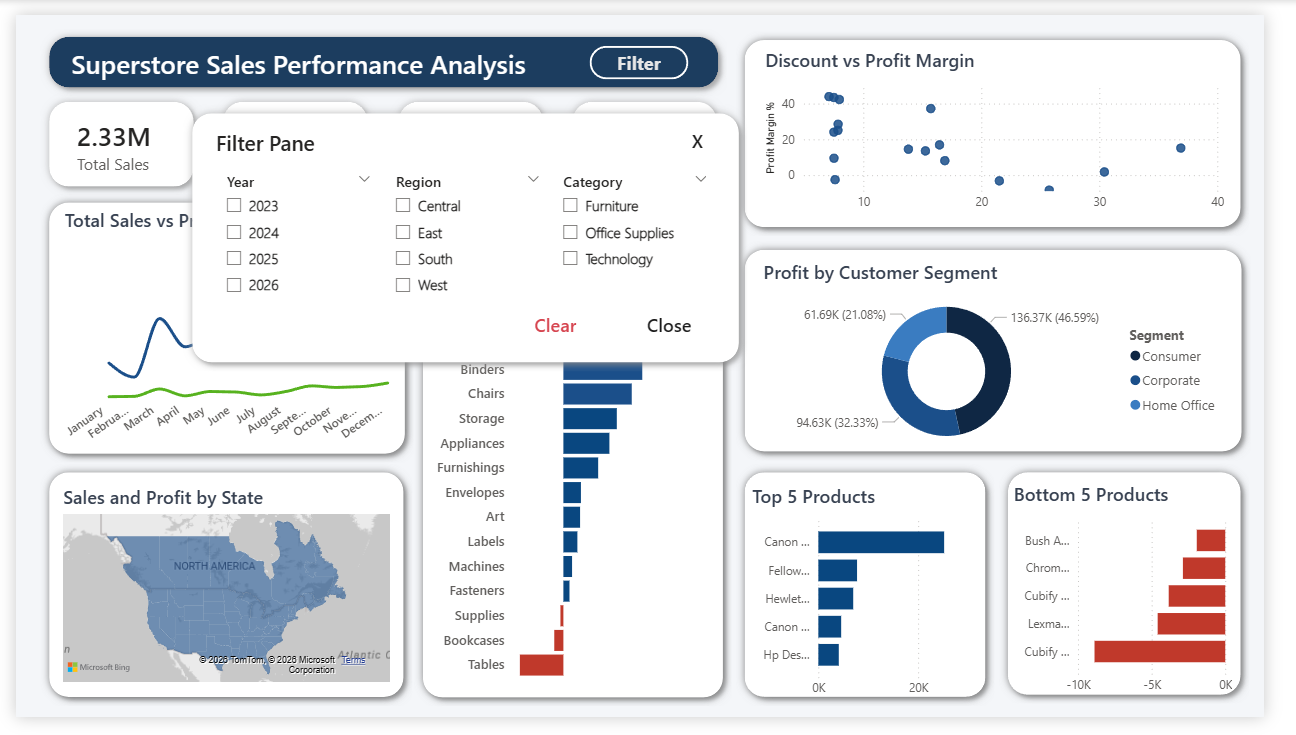

This screenshot's page, from the dashboard's own definition file:
{"tool":"powerbi","page":{"name":"Page 1","canvas":[1280,720],"ordinal":0},"visuals":[{"type":"shape","box":[24.3,12.9,704.3,70],"z":0,"group":"g10"},{"type":"shape","box":[738.3,17.5,526.7,210],"z":0,"group":"g6"},{"type":"shape","box":[24.3,80.4,166.2,105],"z":0,"group":"g3"},{"type":"shape","box":[203.8,80.4,166.2,105],"z":0,"group":"g4"},{"type":"group","id":"g1","title":"Group 1","box":[383,80.4,166.2,105],"z":0},{"type":"shape","box":[383,80.4,166.2,105],"z":0,"group":"g1"},{"type":"shape","box":[562.2,80.4,166.2,105],"z":0,"group":"g2"},{"type":"shape","box":[407.6,182.9,325.7,525.7],"z":0,"group":"g5"},{"type":"shape","box":[738.3,232.4,527.7,225.1],"z":0,"group":"g7"},{"type":"shape","box":[738.3,460,265,248.3],"z":0,"group":"g8"},{"type":"shape","box":[1008.3,460,256.7,246.2],"z":0,"group":"g9"},{"type":"textbox","box":[50.2,26,505.6,47.1],"z":500,"group":"g10"},{"type":"actionButton","title":"Filter","box":[586.9,31.5,101.2,34.3],"z":1000,"group":"g10"},{"type":"scatterChart","title":"Discount vs Profit Margin","fields":{"X":["samplesuperstore_clean.Average Discount %"],"Category":["samplesuperstore_clean.Sub Category"],"Y":["samplesuperstore_clean.Profit Margin %"]},"box":[762.5,33.4,480.9,176.4],"z":1000,"group":"g6"},{"type":"group","id":"g2","title":"Group 1","box":[562.2,80.4,175,105],"z":1000},{"type":"cardVisual","fields":{"Data":["samplesuperstore_clean.Total Profit"]},"box":[212.2,81.4,156.2,100],"z":1000,"group":"g4"},{"type":"cardVisual","fields":{"Data":["samplesuperstore_clean.Profit Margin %"]},"box":[570.6,85.4,166.2,92.5],"z":1000,"group":"g2"},{"type":"cardVisual","fields":{"Data":["samplesuperstore_clean.Total Sales"]},"box":[35.5,87.9,145,92.5],"z":1000,"group":"g3"},{"type":"cardVisual","fields":{"Data":["samplesuperstore_clean.Total Orders"]},"box":[394.2,87.9,145,92.5],"z":1000,"group":"g1"},{"type":"clusteredBarChart","title":"Profit by Sub Category","fields":{"Y":["samplesuperstore_clean.Total Profit"],"Category":["samplesuperstore_clean.Sub Category"]},"box":[424.6,202.2,296,489.5],"z":1000,"group":"g5"},{"type":"donutChart","title":"Profit by Customer Segment","fields":{"Category":["samplesuperstore_clean.Segment"],"Y":["samplesuperstore_clean.Total Profit"]},"box":[761,251.5,482.4,206],"z":1000,"group":"g7"},{"type":"clusteredBarChart","title":"Bottom 5 Products","fields":{"Category":["samplesuperstore_clean.Product Name"],"Y":["samplesuperstore_clean.Total Profit"]},"box":[1017.5,478.7,234,226.8],"z":1000,"group":"g9"},{"type":"clusteredBarChart","title":"Top 5 Products","fields":{"Category":["samplesuperstore_clean.Product Name"],"Y":["samplesuperstore_clean.Total Profit"]},"box":[750.5,479.6,241.6,228.8],"z":1000,"group":"g8"},{"type":"group","id":"g3","title":"Group 1","box":[24.3,80.4,166.2,105],"z":2000},{"type":"group","id":"g4","title":"Group 1","box":[203.8,80.4,166.2,105],"z":3000},{"type":"shape","box":[24.3,182.9,382.9,275.7],"z":4000,"group":"g12"},{"type":"group","id":"g5","title":"Group 2","box":[407.6,182.9,325.7,525.7],"z":4000},{"type":"group","id":"g6","title":"Group 3","box":[738.3,17.5,526.7,210],"z":5000},{"type":"areaChart","title":"Total Sales vs Profit by Month","fields":{"Category":["samplesuperstore_clean.Order Date.Variation.Date Hierarchy.Month"],"Y":["samplesuperstore_clean.Total Sales","samplesuperstore_clean.Total Profit"]},"box":[43.9,196.3,351.8,250.6],"z":5000,"group":"g12"},{"type":"group","id":"g7","title":"Group 4","box":[738.3,232.4,528.3,225],"z":6000},{"type":"shape","box":[24.3,460,381.4,248.6],"z":7000,"group":"g11"},{"type":"group","id":"g8","title":"Group 5","box":[738.3,460,265,248.3],"z":7000},{"type":"group","id":"g9","title":"Group 5","box":[1008.3,460,256.7,245],"z":8000},{"type":"filledMap","title":"Sales and Profit by State","fields":{"Category":["samplesuperstore_clean.State Province"]},"box":[42.3,481.4,345,207.1],"z":8000,"group":"g11"},{"type":"group","id":"g10","title":"Group 1","box":[24.3,12.9,704.3,70],"z":10000},{"type":"group","id":"g11","title":"Group 6","box":[24.3,460,381.4,248.6],"z":11000},{"type":"group","id":"g12","title":"Group 7","box":[24.3,182.9,382.9,275.7],"z":12000}]}

Visuals, with their boxes in screenshot pixels (x1, y1, x2, y2), scaled from the page's 1280x720 canvas onto the 1296x735 screenshot:
shape: (x1=25, y1=13, x2=738, y2=85)
shape: (x1=748, y1=18, x2=1281, y2=232)
shape: (x1=25, y1=82, x2=193, y2=189)
shape: (x1=206, y1=82, x2=375, y2=189)
"Group 1" group: (x1=388, y1=82, x2=556, y2=189)
shape: (x1=388, y1=82, x2=556, y2=189)
shape: (x1=569, y1=82, x2=738, y2=189)
shape: (x1=413, y1=187, x2=742, y2=723)
shape: (x1=748, y1=237, x2=1282, y2=467)
shape: (x1=748, y1=470, x2=1016, y2=723)
shape: (x1=1021, y1=470, x2=1281, y2=721)
textbox: (x1=51, y1=27, x2=563, y2=75)
"Filter" actionButton: (x1=594, y1=32, x2=697, y2=67)
"Discount vs Profit Margin" scatterChart: (x1=772, y1=34, x2=1259, y2=214)
"Group 1" group: (x1=569, y1=82, x2=746, y2=189)
cardVisual - samplesuperstore_clean.Total Profit: (x1=215, y1=83, x2=373, y2=185)
cardVisual - samplesuperstore_clean.Profit Margin %: (x1=578, y1=87, x2=746, y2=182)
cardVisual - samplesuperstore_clean.Total Sales: (x1=36, y1=90, x2=183, y2=184)
cardVisual - samplesuperstore_clean.Total Orders: (x1=399, y1=90, x2=546, y2=184)
"Profit by Sub Category" clusteredBarChart: (x1=430, y1=206, x2=730, y2=706)
"Profit by Customer Segment" donutChart: (x1=771, y1=257, x2=1259, y2=467)
"Bottom 5 Products" clusteredBarChart: (x1=1030, y1=489, x2=1267, y2=720)
"Top 5 Products" clusteredBarChart: (x1=760, y1=490, x2=1005, y2=723)
"Group 1" group: (x1=25, y1=82, x2=193, y2=189)
"Group 1" group: (x1=206, y1=82, x2=375, y2=189)
shape: (x1=25, y1=187, x2=412, y2=468)
"Group 2" group: (x1=413, y1=187, x2=742, y2=723)
"Group 3" group: (x1=748, y1=18, x2=1281, y2=232)
"Total Sales vs Profit by Month" areaChart: (x1=44, y1=200, x2=401, y2=456)
"Group 4" group: (x1=748, y1=237, x2=1282, y2=467)
shape: (x1=25, y1=470, x2=411, y2=723)
"Group 5" group: (x1=748, y1=470, x2=1016, y2=723)
"Group 5" group: (x1=1021, y1=470, x2=1281, y2=720)
"Sales and Profit by State" filledMap: (x1=43, y1=491, x2=392, y2=703)
"Group 1" group: (x1=25, y1=13, x2=738, y2=85)
"Group 6" group: (x1=25, y1=470, x2=411, y2=723)
"Group 7" group: (x1=25, y1=187, x2=412, y2=468)
